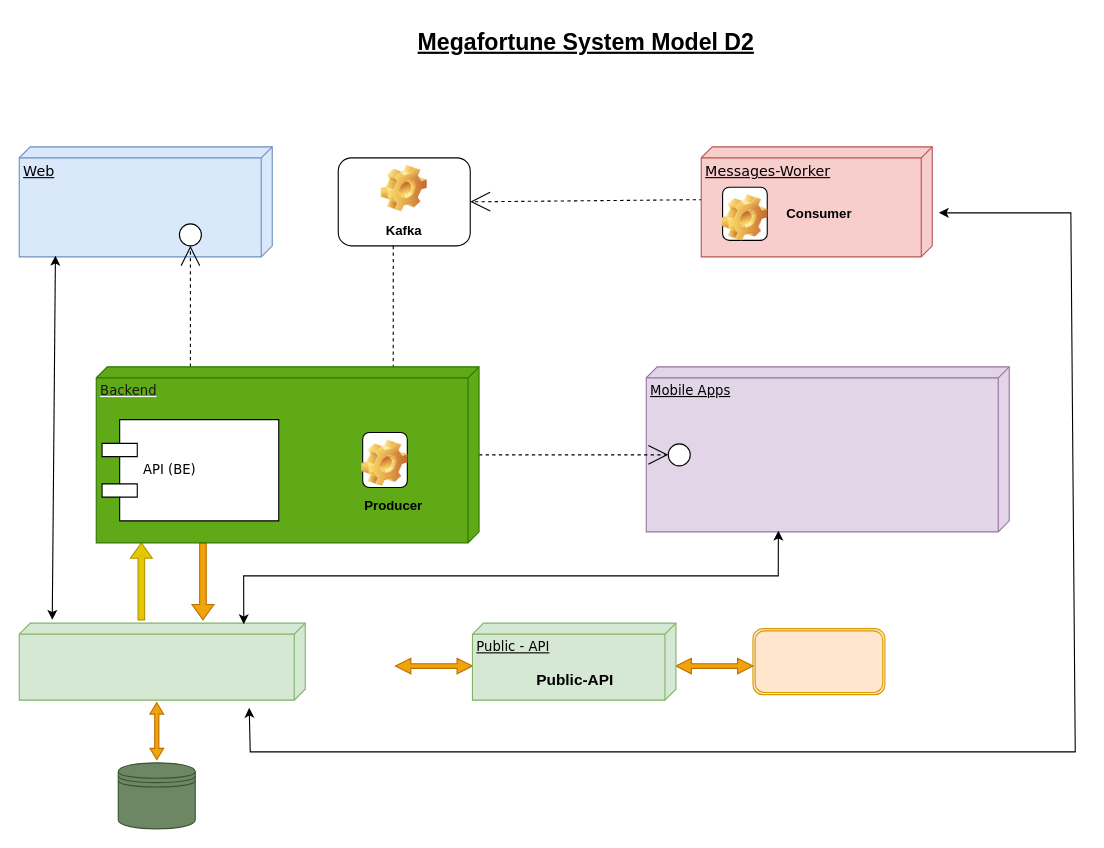
This 1104x848 diagram has some shape labels left out. Here are the shapes that lost their labels. From the top down, the centre of each, then its label:
At pixel 161 661: "Hasura".
At pixel 818 661: "USSD".
At pixel 156 795: "DB (Postgres)".
